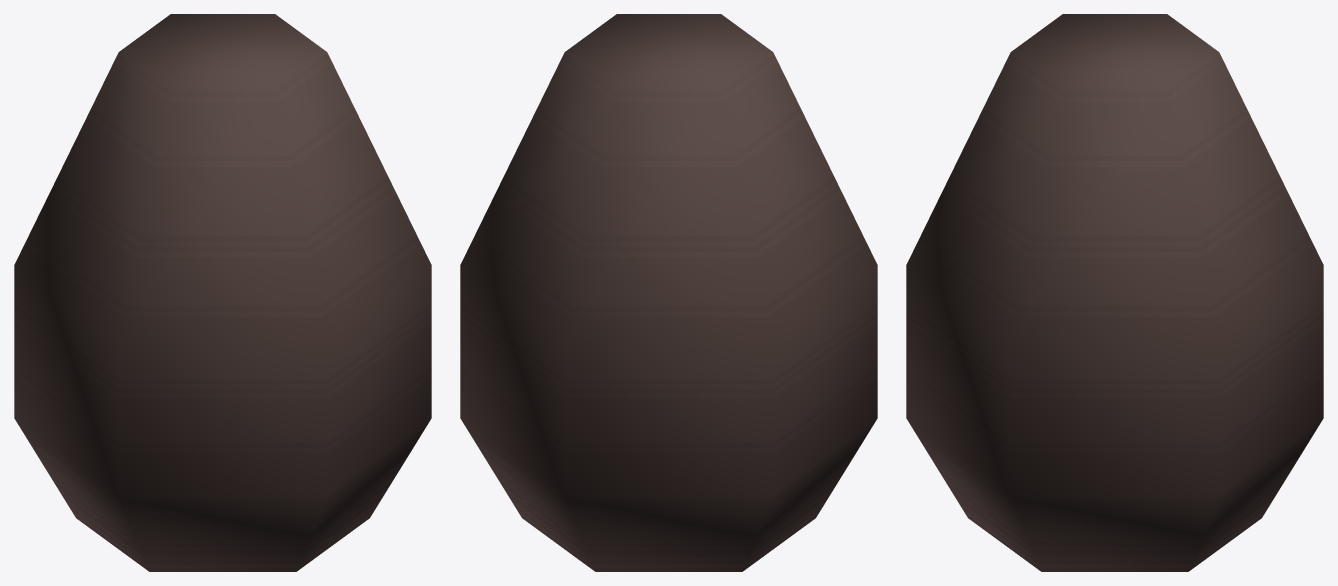
File: avocado.glb
The picture shows the model from 3 angles, left to right: view 1: azimuth 30°, elevation 25°; view 2: azimuth 150°, elevation 25°; view 3: azimuth 270°, elevation 25°; orthographic projection.
Parts seen in each view (by area): view 1: avocado; view 2: avocado; view 3: avocado.
Boxes of the visible parts, bbox=[...] form: avocado: bbox=[14, 14, 431, 571]; avocado: bbox=[460, 14, 877, 571]; avocado: bbox=[906, 14, 1323, 571].
Size of the model in its own units: 0.1502 by 0.2137 by 0.1734.
Materials: 1 (1 with a texture image).
